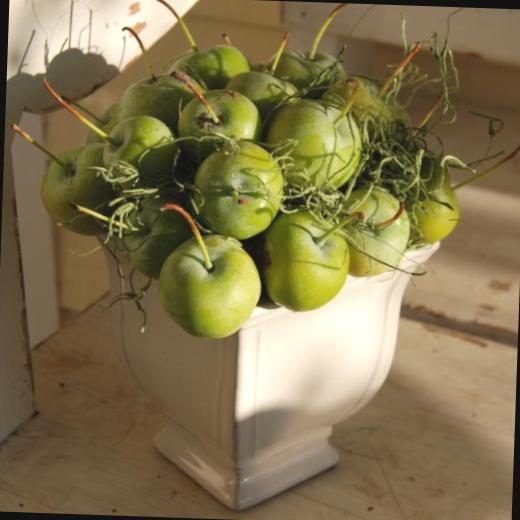Apple: (35, 29, 474, 350)
